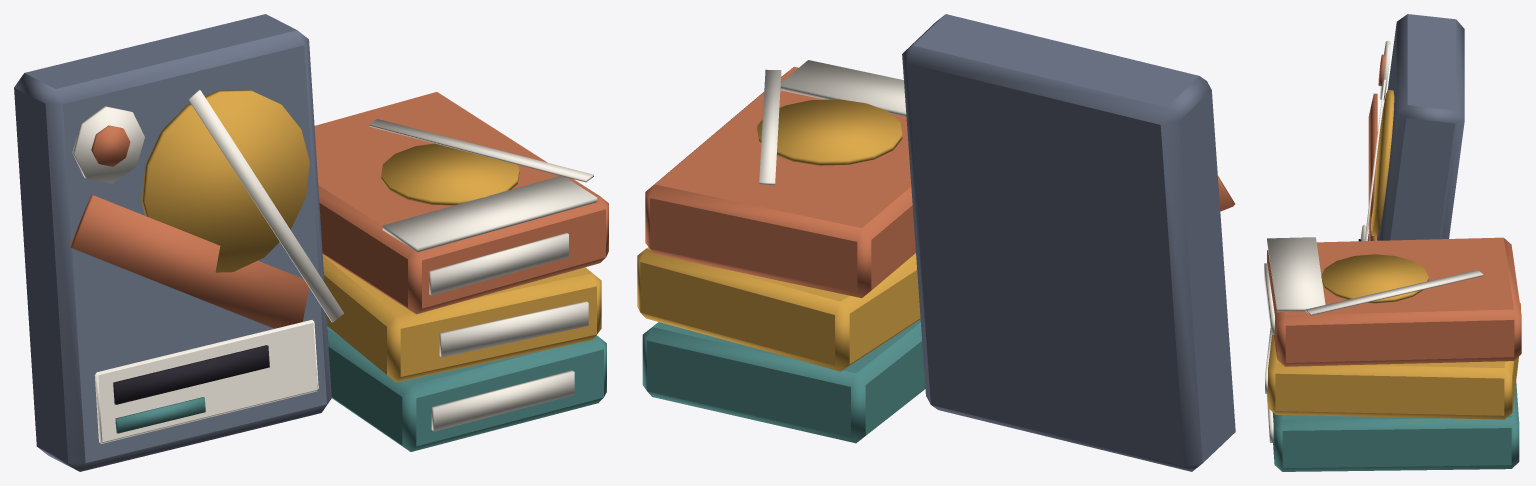
Rendered from era_retail_boxes.glb.
3 renders of one model, left to right at view 1: azimuth 30°, elevation 25°; view 2: azimuth 150°, elevation 25°; view 3: azimuth 270°, elevation 25°, orthographic. The views are drawn at different scales.
Parts seen in each view (by area): view 1: era_retail_boxes; view 2: era_retail_boxes; view 3: era_retail_boxes.
Part boxes in pixels (x1=…): era_retail_boxes: x1=14, y1=14, x2=608, y2=471; era_retail_boxes: x1=637, y1=14, x2=1235, y2=471; era_retail_boxes: x1=1264, y1=14, x2=1521, y2=471.
Size of the model in its own units: 0.4432 by 0.3237 by 0.2629.
